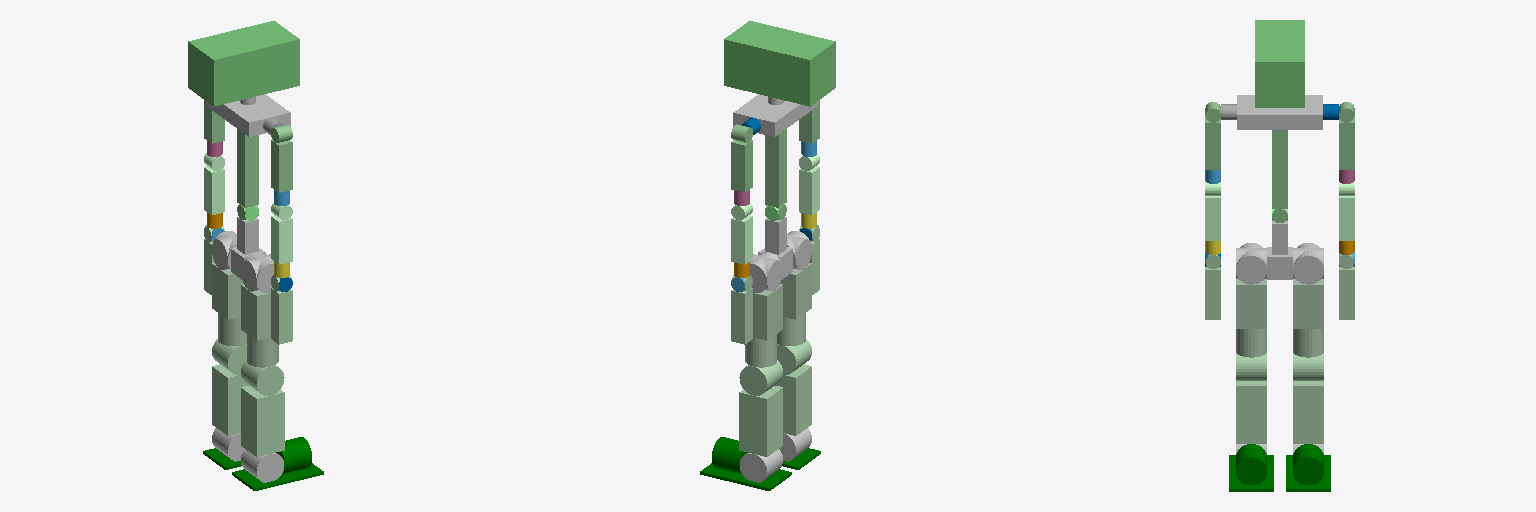
--- What the picture shows (computed from the rendered views, not written in the file) ---
3 views of the same robot in one strip: view 1: azimuth 30°, elevation 25°; view 2: azimuth 150°, elevation 25°; view 3: azimuth 270°, elevation 25° (orthographic).
Model SR1 with 30 links and 29 joints (29 revolute), rooted at WAIST, posed all joints at 0.
Links seen in each view (by area): view 1: CHEST, RLEG_KNEE, LLEG_KNEE, RLEG_HIP_Y, LLEG_HIP_Y, RLEG_ANKLE_R, WAIST_R, RARM_SHOULDER_R, RARM_WRIST_R, RARM_ELBOW, LARM_ELBOW, WAIST (+6 smaller); view 2: CHEST, LLEG_KNEE, RLEG_KNEE, LLEG_HIP_Y, RLEG_HIP_Y, LLEG_ANKLE_R, WAIST_R, LARM_SHOULDER_R, LARM_WRIST_R, LARM_ELBOW, RARM_ELBOW, WAIST (+6 smaller); view 3: CHEST, RLEG_KNEE, LLEG_KNEE, RLEG_HIP_Y, LLEG_HIP_Y, RLEG_ANKLE_R, LLEG_ANKLE_R, WAIST_R, WAIST, RARM_SHOULDER_R, LARM_SHOULDER_R, RARM_WRIST_R (+5 smaller).
Boxes of the visible links, left/top/right/bottom form: CHEST: left=188, top=21, right=299, bottom=136; RLEG_KNEE: left=241, top=360, right=284, bottom=456; LLEG_KNEE: left=212, top=339, right=248, bottom=435; RLEG_HIP_Y: left=241, top=284, right=278, bottom=367; LLEG_HIP_Y: left=212, top=263, right=246, bottom=345; RLEG_ANKLE_R: left=232, top=437, right=323, bottom=490; WAIST_R: left=237, top=129, right=258, bottom=219; RARM_SHOULDER_R: left=271, top=124, right=292, bottom=192; RARM_WRIST_R: left=271, top=275, right=292, bottom=344; RARM_ELBOW: left=271, top=203, right=292, bottom=264; LARM_ELBOW: left=204, top=153, right=224, bottom=214; WAIST: left=231, top=217, right=265, bottom=279; CHEST: left=724, top=21, right=835, bottom=136; LLEG_KNEE: left=739, top=360, right=782, bottom=456; RLEG_KNEE: left=775, top=339, right=811, bottom=435; LLEG_HIP_Y: left=745, top=284, right=782, bottom=367; RLEG_HIP_Y: left=777, top=263, right=811, bottom=345; LLEG_ANKLE_R: left=700, top=437, right=791, bottom=490; WAIST_R: left=765, top=129, right=786, bottom=219; LARM_SHOULDER_R: left=731, top=124, right=752, bottom=192; LARM_WRIST_R: left=731, top=275, right=752, bottom=344; LARM_ELBOW: left=731, top=203, right=752, bottom=264; RARM_ELBOW: left=799, top=153, right=819, bottom=214; WAIST: left=758, top=217, right=792, bottom=279; CHEST: left=1237, top=20, right=1322, bottom=129; RLEG_KNEE: left=1236, top=353, right=1266, bottom=443; LLEG_KNEE: left=1293, top=353, right=1323, bottom=443; RLEG_HIP_Y: left=1236, top=279, right=1266, bottom=357; LLEG_HIP_Y: left=1293, top=279, right=1323, bottom=357; RLEG_ANKLE_R: left=1229, top=444, right=1273, bottom=491; LLEG_ANKLE_R: left=1286, top=444, right=1330, bottom=491; WAIST_R: left=1272, top=130, right=1287, bottom=222; WAIST: left=1267, top=221, right=1292, bottom=279; RARM_SHOULDER_R: left=1205, top=102, right=1220, bottom=169; LARM_SHOULDER_R: left=1339, top=102, right=1354, bottom=169; RARM_WRIST_R: left=1205, top=255, right=1220, bottom=319.
Size in the robot's own frame: 0.35 by 0.47 by 1.47 metres.
Geometry: primitives only (box / cylinder / sphere), no mesh files.

robot.urdf — SR1:
<robot name="SR1">
  <!-- root link -->
  <link name="WAIST">
    <inertial>
      <mass value="27.0"/>
      <origin xyz="0.0 0.0 0.0375"/>
      <inertia ixx="1.0" ixy="0.0" ixz="0.0" iyy="1.0" iyz="0.0" izz="1.0"/>
    </inertial>

    <visual>
      <geometry>
        <box size="0.08 0.08 0.08"/>
      </geometry>
      <material name="WaistAppearance">
        <color rgba="0.8 0.8 0.8 1.0"/>
      </material>
    </visual>
    <visual>
      <origin xyz="0.0 0.0 0.0955"/>
      <geometry>
        <box size="0.05 0.05 0.111"/>
      </geometry>
      <material name="WaistAppearance"/>
    </visual>

    <collision>
      <geometry>
        <box size="0.08 0.08 0.08"/>
      </geometry>
    </collision>
    <collision>
      <origin xyz="0.0 0.0 0.0955"/>
      <geometry>
        <box size="0.05 0.05 0.111"/>
      </geometry>
    </collision>
  </link>

  <!-- right leg -->
  <joint name="RLEG_HIP_R" type="revolute">
    <origin xyz="0.0 -0.09 0.0"/>
    <axis xyz="1 0 0"/>
    <parent link="WAIST"/>
    <child link="RLEG_HIP_R"/>
    <limit lower="-0.785398163397" upper="0.785398163397" effort="500.0" velocity="10.0"/>
  </joint>

  <link name="RLEG_HIP_R">
    <inertial>
      <mass value="2.5"/>
      <origin xyz="0.0 -0.1 0.0"/>
      <inertia ixx="1.0" ixy="0.0" ixz="0.0" iyy="1.0" iyz="0.0" izz="1.0"/>
    </inertial>

    <visual>
      <origin rpy="1.57 0.0 1.57"/>
      <geometry>
        <cylinder radius="0.05" length="0.1"/>
      </geometry>
      <material name="Appearance3"/>
    </visual>

    <collision>
      <origin rpy="1.57 0.0 1.57"/>
      <geometry>
        <cylinder radius="0.05" length="0.1"/>
      </geometry>
    </collision>
  </link>

  <joint name="RLEG_HIP_P" type="revolute">
    <axis xyz="0 1 0"/>
    <parent link="RLEG_HIP_R"/>
    <child link="RLEG_HIP_P"/>
    <limit lower="-1.57" upper="1.57" effort="500.0" velocity="10.0"/>
  </joint>

  <link name="RLEG_HIP_P">
    <inertial>
      <mass value="2.0"/>
      <origin xyz="0.0 0.0 -0.15"/>
      <inertia ixx="1.0" ixy="0.0" ixz="0.0" iyy="1.0" iyz="0.0" izz="1.0"/>
    </inertial>

    <visual>
      <origin rpy="1.57 0.0 0.0"/>
      <geometry>
        <cylinder radius="0.05" length="0.1"/>
      </geometry>
      <material name="Appearance3"/>
    </visual>

    <collision>
      <origin rpy="1.57 0.0 0.0"/>
      <geometry>
        <cylinder radius="0.05" length="0.1"/>
      </geometry>
    </collision>
  </link>

  <joint name="RLEG_HIP_Y" type="revolute">
    <origin xyz="0.0 0.0 -0.3535"/>
    <axis xyz="0 0 1"/>
    <parent link="RLEG_HIP_P"/>
    <child link="RLEG_HIP_Y"/>
    <limit lower="-1.0471975512" upper="1.0471975512" effort="500.0" velocity="10.0"/>
  </joint>

  <link name="RLEG_HIP_Y">
    <inertial>
      <mass value="5.1"/>
      <origin xyz="0.0 -0.04 0.0"/>
      <inertia ixx="1.0" ixy="0.0" ixz="0.0" iyy="1.0" iyz="0.0" izz="1.0"/>
    </inertial>

    <visual>
      <origin xyz="0.0 0.0 0.1"/>
      <geometry>
        <cylinder radius="0.05" length="0.1"/>
      </geometry>
      <material name="Appearance5"/>
    </visual>
    <visual>
      <origin xyz="0.0 0.0 0.22675"/>
      <geometry>
        <box size="0.1 0.1 0.1535"/>
      </geometry>
      <material name="Appearance5"/>
    </visual>

    <collision>
      <origin xyz="0.0 0.0 0.1"/>
      <geometry>
        <cylinder radius="0.05" length="0.1"/>
      </geometry>
    </collision>
    <collision>
      <origin xyz="0.0 0.0 0.22675"/>
      <geometry>
        <box size="0.1 0.1 0.1535"/>
      </geometry>
    </collision>
  </link>

  <joint name="RLEG_KNEE" type="revolute">
    <axis xyz="0 1 0"/>
    <parent link="RLEG_HIP_Y"/>
    <child link="RLEG_KNEE"/>
    <limit lower="0.0" upper="2.61799387799" effort="500.0" velocity="10.0"/>
  </joint>

  <link name="RLEG_KNEE">
    <inertial>
      <mass value="7.0"/>
      <origin xyz="0.0 0.0 -0.3"/>
      <inertia ixx="1.0" ixy="0.0" ixz="0.0" iyy="1.0" iyz="0.0" izz="1.0"/>
    </inertial>

    <visual>
      <origin rpy="1.57 0.0 0.0"/>
      <geometry>
        <cylinder radius="0.05" length="0.1"/>
      </geometry>
      <material name="Appearance7"/>
    </visual>
    <visual>
      <origin xyz="0.0 0.0 -0.15"/>
      <geometry>
        <box size="0.1 0.1 0.2"/>
      </geometry>
      <material name="Appearance7"/>
    </visual>

    <collision>
      <origin rpy="1.57 0.0 0.0"/>
      <geometry>
        <cylinder radius="0.05" length="0.1"/>
      </geometry>
    </collision>
    <collision>
      <origin xyz="0.0 0.0 -0.15"/>
      <geometry>
        <box size="0.1 0.1 0.2"/>
      </geometry>
    </collision>
  </link>

  <joint name="RLEG_ANKLE_P" type="revolute">
    <origin xyz="0.0 0.0 -0.3"/>
    <axis xyz="0 1 0"/>
    <parent link="RLEG_KNEE"/>
    <child link="RLEG_ANKLE_P"/>
    <limit lower="-1.3962634016" upper="0.785398163397" effort="500.0" velocity="10.0"/>
  </joint>

  <link name="RLEG_ANKLE_P">
    <inertial>
      <mass value="2.5"/>
      <origin xyz="-0.15 0.0 0.0"/>
      <inertia ixx="1.0" ixy="0.0" ixz="0.0" iyy="1.0" iyz="0.0" izz="1.0"/>
    </inertial>

    <visual>
      <origin rpy="1.57 0.0 0.0"/>
      <geometry>
        <cylinder radius="0.05" length="0.1"/>
      </geometry>
      <material name="Appearance3"/>
    </visual>

    <collision>
      <origin rpy="1.57 0.0 0.0"/>
      <geometry>
        <cylinder radius="0.05" length="0.1"/>
      </geometry>
    </collision>
  </link>

  <joint name="RLEG_ANKLE_R" type="revolute">
    <axis xyz="1 0 0"/>
    <parent link="RLEG_ANKLE_P"/>
    <child link="RLEG_ANKLE_R"/>
    <limit lower="-0.785398163397" upper="0.785398163397" effort="500.0" velocity="10.0"/>
  </joint>

  <link name="RLEG_ANKLE_R">
    <inertial>
      <mass value="1.9"/>
      <origin xyz="0.28 0.0 -0.2"/>
      <inertia ixx="1.0" ixy="0.0" ixz="0.0" iyy="1.0" iyz="0.0" izz="1.0"/>
    </inertial>

    <visual>
      <origin xyz="0.1 0.0 0.0" rpy="1.57 0.0 1.57"/>
      <geometry>
        <cylinder radius="0.05" length="0.1"/>
      </geometry>
      <material name="Appearance6"/>
    </visual>
    <visual>
      <origin xyz="0.055 0.0 -0.05"/>
      <geometry>
        <box size="0.25 0.14 0.01"/>
      </geometry>
      <material name="Appearance6"/>
    </visual>

    <collision>
      <origin xyz="0.1 0.0 0.0" rpy="1.57 0.0 1.57"/>
      <geometry>
        <cylinder radius="0.05" length="0.1"/>
      </geometry>
    </collision>
    <collision>
      <origin xyz="0.055 0.0 -0.05"/>
      <geometry>
        <box size="0.25 0.14 0.01"/>
      </geometry>
    </collision>
  </link>

  <!-- right arm -->
  <joint name="RARM_SHOULDER_P" type="revolute">
    <origin xyz="0.0 -0.21 0.0"/>
    <axis xyz="0 1 0"/>
    <parent link="CHEST"/>
    <child link="RARM_SHOULDER_P"/>
    <limit lower="-3.14" upper="3.14" effort="500.0" velocity="10.0"/>
  </joint>

  <link name="RARM_SHOULDER_P">
    <inertial>
      <mass value="3.0"/>
      <origin xyz="0.1 0.0 0.0"/>
      <inertia ixx="1.0" ixy="0.0" ixz="0.0" iyy="1.0" iyz="0.0" izz="1.0"/>
    </inertial>

    <visual>
      <origin xyz="0.0 0.05 0.0" rpy="1.57 0.0 0.0"/>
      <geometry>
        <cylinder radius="0.025" length="0.05"/>
      </geometry>
    </visual>

    <collision>
      <origin xyz="0.0 0.05 0.0" rpy="1.57 0.0 0.0"/>
      <geometry>
        <cylinder radius="0.025" length="0.05"/>
      </geometry>
    </collision>
  </link>

  <joint name="RARM_SHOULDER_R" type="revolute">
    <axis xyz="1 0 0"/>
    <parent link="RARM_SHOULDER_P"/>
    <child link="RARM_SHOULDER_R"/>
    <limit lower="-3.14" upper="0.785398163397" effort="500.0" velocity="10.0"/>
  </joint>

  <link name="RARM_SHOULDER_R">
    <inertial>
      <mass value="0.6"/>
      <origin xyz="0.0 0.0 -0.1"/>
      <inertia ixx="1.0" ixy="0.0" ixz="0.0" iyy="1.0" iyz="0.0" izz="1.0"/>
    </inertial>

    <visual>
      <origin rpy="0.0 1.57 0.0"/>
      <geometry>
        <cylinder radius="0.025" length="0.05"/>
      </geometry>
      <material name="Appearance2"/>
    </visual>
    <visual>
      <origin xyz="0.0 0.0 -0.1065"/>
      <geometry>
        <box size="0.05 0.05 0.163"/>
      </geometry>
      <material name="Appearance2"/>
    </visual>

    <collision>
      <origin rpy="0.0 1.57 0.0"/>
      <geometry>
        <cylinder radius="0.025" length="0.05"/>
      </geometry>
    </collision>
    <collision>
      <origin xyz="0.0 0.0 -0.1065"/>
      <geometry>
        <box size="0.05 0.05 0.163"/>
      </geometry>
    </collision>
  </link>

  <joint name="RARM_SHOULDER_Y" type="revolute">
    <origin xyz="0.0 0.0 -0.263"/>
    <axis xyz="0 0 1"/>
    <parent link="RARM_SHOULDER_R"/>
    <child link="RARM_SHOULDER_Y"/>
    <limit lower="-1.57" upper="1.57" effort="500.0" velocity="10.0"/>
  </joint>

  <link name="RARM_SHOULDER_Y">
    <inertial>
      <mass value="1.0"/>
      <origin xyz="0.0 0.0 0.0"/>
      <inertia ixx="1.0" ixy="0.0" ixz="0.0" iyy="1.0" iyz="0.0" izz="1.0"/>
    </inertial>

    <visual>
      <origin xyz="0.0 0.0 0.05"/>
      <geometry>
        <cylinder radius="0.025" length="0.05"/>
      </geometry>
    </visual>

    <collision>
      <origin xyz="0.0 0.0 0.05"/>
      <geometry>
        <cylinder radius="0.025" length="0.05"/>
      </geometry>
    </collision>
  </link>

  <joint name="RARM_ELBOW" type="revolute">
    <axis xyz="0 1 0"/>
    <parent link="RARM_SHOULDER_Y"/>
    <child link="RARM_ELBOW"/>
    <limit lower="-2.61799387799" upper="0.0" effort="500.0" velocity="0.0"/>
  </joint>

  <link name="RARM_ELBOW">
    <inertial>
      <mass value="0.6"/>
      <origin xyz="0.0 0.0 -0.3"/>
      <inertia ixx="1.0" ixy="0.0" ixz="0.0" iyy="1.0" iyz="0.0" izz="1.0"/>
    </inertial>

    <visual>
      <origin rpy="1.57 0.0 0.0"/>
      <geometry>
        <cylinder radius="0.025" length="0.05"/>
      </geometry>
      <material name="Appearance4"/>
    </visual>
    <visual>
      <origin xyz="0.0 0.0 -0.0985"/>
      <geometry>
        <box size="0.05 0.05 0.147"/>
      </geometry>
      <material name="Appearance4"/>
    </visual>

    <collision>
      <origin rpy="1.57 0.0 0.0"/>
      <geometry>
        <cylinder radius="0.025" length="0.05"/>
      </geometry>
    </collision>
    <collision>
      <origin xyz="0.0 0.0 -0.0985"/>
      <geometry>
        <box size="0.05 0.05 0.147"/>
      </geometry>
    </collision>
  </link>

  <joint name="RARM_WRIST_Y" type="revolute">
    <origin xyz="0.0 0.0 -0.247"/>
    <axis xyz="0 0 1"/>
    <parent link="RARM_ELBOW"/>
    <child link="RARM_WRIST_Y"/>
    <limit lower="-1.57" upper="1.57" effort="500.0" velocity="10.0"/>
  </joint>

  <link name="RARM_WRIST_Y">
    <inertial>
      <mass value="0.4"/>
      <origin xyz="0.0 0.0 0.1"/>
      <inertia ixx="1.0" ixy="0.0" ixz="0.0" iyy="1.0" iyz="0.0" izz="1.0"/>
    </inertial>

    <visual>
      <origin xyz="0.0 0.0 0.05"/>
      <geometry>
        <cylinder radius="0.025" length="0.05"/>
      </geometry>
    </visual>

    <collision>
      <origin xyz="0.0 0.0 0.05"/>
      <geometry>
        <cylinder radius="0.025" length="0.05"/>
      </geometry>
    </collision>
  </link>

  <joint name="RARM_WRIST_P" type="revolute">
    <axis xyz="0 1 0"/>
    <parent link="RARM_WRIST_Y"/>
    <child link="RARM_WRIST_P"/>
    <limit lower="-1.57" upper="1.57" effort="500.0" velocity="10.0"/>
  </joint>

  <link name="RARM_WRIST_P">
    <inertial>
      <mass value="0.4"/>
      <origin xyz="-0.1 0.0 0.0"/>
      <inertia ixx="1.0" ixy="0.0" ixz="0.0" iyy="1.0" iyz="0.0" izz="1.0"/>
    </inertial>

    <visual>
      <origin rpy="1.57 0.0 0.0"/>
      <geometry>
        <cylinder radius="0.025" length="0.05"/>
      </geometry>
    </visual>

    <collision>
      <origin rpy="1.57 0.0 0.0"/>
      <geometry>
        <cylinder radius="0.025" length="0.05"/>
      </geometry>
    </collision>
  </link>

  <joint name="RARM_WRIST_R" type="revolute">
    <axis xyz="1 0 0"/>
    <parent link="RARM_WRIST_P"/>
    <child link="RARM_WRIST_R"/>
    <limit lower="-1.57" upper="1.57" effort="500.0" velocity="10.0"/>
  </joint>

  <link name="RARM_WRIST_R">
    <inertial>
      <mass value="0.4"/>
      <origin xyz="0.0 0.0 -0.1"/>
      <inertia ixx="1.0" ixy="0.0" ixz="0.0" iyy="1.0" iyz="0.0" izz="1.0"/>
    </inertial>

    <visual>
      <origin rpy="1.57 0.0 1.57"/>
      <geometry>
        <cylinder radius="0.025" length="0.05"/>
      </geometry>
      <material name="Appearance7"/>
    </visual>
    <visual>
      <origin xyz="0.0 0.0 -0.1125"/>
      <geometry>
        <box size="0.05 0.05 0.175"/>
      </geometry>
      <material name="Appearance7"/>
    </visual>

    <collision>
      <origin rpy="1.57 0.0 1.57"/>
      <geometry>
        <cylinder radius="0.025" length="0.05"/>
      </geometry>
    </collision>
    <collision>
      <origin xyz="0.0 0.0 -0.1125"/>
      <geometry>
        <box size="0.05 0.05 0.175"/>
      </geometry>
    </collision>
  </link>

  <!-- left leg -->
  <joint name="LLEG_HIP_R" type="revolute">
    <origin xyz="0.0 0.09 0.0"/>
    <axis xyz="1 0 0"/>
    <parent link="WAIST"/>
    <child link="LLEG_HIP_R"/>
    <limit lower="-0.785398163397" upper="0.785398163397" effort="500.0" velocity="10.0"/>
  </joint>

  <link name="LLEG_HIP_R">
    <inertial>
      <mass value="2.5"/>
      <origin xyz="0.0 0.1 0.0"/>
      <inertia ixx="1.0" ixy="0.0" ixz="0.0" iyy="1.0" iyz="0.0" izz="1.0"/>
    </inertial>

    <visual>
      <origin rpy="1.57 0.0 1.57"/>
      <geometry>
        <cylinder radius="0.05" length="0.1"/>
      </geometry>
      <material name="Appearance3"/>
    </visual>

    <collision>
      <origin rpy="1.57 0.0 1.57"/>
      <geometry>
        <cylinder radius="0.05" length="0.1"/>
      </geometry>
    </collision>
  </link>

  <joint name="LLEG_HIP_P" type="revolute">
    <axis xyz="0 1 0"/>
    <parent link="LLEG_HIP_R"/>
    <child link="LLEG_HIP_P"/>
    <limit lower="-1.57" upper="1.57" effort="500.0" velocity="10.0"/>
  </joint>

  <link name="LLEG_HIP_P">
    <inertial>
      <mass value="2.0"/>
      <origin xyz="0.0 0.0 -0.15"/>
      <inertia ixx="1.0" ixy="0.0" ixz="0.0" iyy="1.0" iyz="0.0" izz="1.0"/>
    </inertial>

    <visual>
      <origin rpy="1.57 0.0 0.0"/>
      <geometry>
        <cylinder radius="0.05" length="0.1"/>
      </geometry>
      <material name="Appearance3"/>
    </visual>

    <collision>
      <origin rpy="1.57 0.0 0.0"/>
      <geometry>
        <cylinder radius="0.05" length="0.1"/>
      </geometry>
    </collision>
  </link>

  <joint name="LLEG_HIP_Y" type="revolute">
    <origin xyz="0.0 0.0 -0.3535"/>
    <axis xyz="0 0 1"/>
    <parent link="LLEG_HIP_P"/>
    <child link="LLEG_HIP_Y"/>
    <limit lower="-1.0471975512" upper="1.0471975512" effort="500.0" velocity="10.0"/>
  </joint>

  <link name="LLEG_HIP_Y">
    <inertial>
      <mass value="5.1"/>
      <origin xyz="0.0 0.04 0.0"/>
      <inertia ixx="1.0" ixy="0.0" ixz="0.0" iyy="1.0" iyz="0.0" izz="1.0"/>
    </inertial>

    <visual>
      <origin xyz="0.0 0.0 0.1"/>
      <geometry>
        <cylinder radius="0.05" length="0.1"/>
      </geometry>
      <material name="Appearance5">
        <color rgba="0.7 0.8 0.7 1.0"/>
      </material>
    </visual>
    <visual>
      <origin xyz="0.0 0.0 0.22675"/>
      <geometry>
        <box size="0.1 0.1 0.1535"/>
      </geometry>
      <material name="Appearance5"/>
    </visual>

    <collision>
      <origin xyz="0.0 0.0 0.1"/>
      <geometry>
        <cylinder radius="0.05" length="0.1"/>
      </geometry>
    </collision>
    <collision>
      <origin xyz="0.0 0.0 0.22675"/>
      <geometry>
        <box size="0.1 0.1 0.1535"/>
      </geometry>
    </collision>
  </link>

  <joint name="LLEG_KNEE" type="revolute">
    <axis xyz="0 1 0"/>
    <parent link="LLEG_HIP_Y"/>
    <child link="LLEG_KNEE"/>
    <limit lower="0.0" upper="2.61799387799" effort="500.0" velocity="10.0"/>
  </joint>

  <link name="LLEG_KNEE">
    <inertial>
      <mass value="7.0"/>
      <origin xyz="0.0 0.0 -0.3"/>
      <inertia ixx="1.0" ixy="0.0" ixz="0.0" iyy="1.0" iyz="0.0" izz="1.0"/>
    </inertial>

    <visual>
      <origin rpy="1.57 0.0 0.0"/>
      <geometry>
        <cylinder radius="0.05" length="0.1"/>
      </geometry>
      <material name="Appearance7"/>
    </visual>
    <visual>
      <origin xyz="0.0 0.0 -0.15"/>
      <geometry>
        <box size="0.1 0.1 0.2"/>
      </geometry>
      <material name="Appearance7"/>
    </visual>

    <collision>
      <origin rpy="1.57 0.0 0.0"/>
      <geometry>
        <cylinder radius="0.05" length="0.1"/>
      </geometry>
    </collision>
    <collision>
      <origin xyz="0.0 0.0 -0.15"/>
      <geometry>
        <box size="0.1 0.1 0.2"/>
      </geometry>
    </collision>
  </link>

  <joint name="LLEG_ANKLE_P" type="revolute">
    <origin xyz="0.0 0.0 -0.3"/>
    <axis xyz="0 1 0"/>
    <parent link="LLEG_KNEE"/>
    <child link="LLEG_ANKLE_P"/>
    <limit lower="-1.3962634016" upper="0.785398163397" effort="500.0" velocity="10.0"/>
  </joint>

  <link name="LLEG_ANKLE_P">
    <inertial>
      <mass value="2.5"/>
      <origin xyz="-0.15 0.0 0.0"/>
      <inertia ixx="1.0" ixy="0.0" ixz="0.0" iyy="1.0" iyz="0.0" izz="1.0"/>
    </inertial>

    <visual>
      <origin rpy="1.57 0.0 0.0"/>
      <geometry>
        <cylinder radius="0.05" length="0.1"/>
      </geometry>
      <material name="Appearance3"/>
    </visual>

    <collision>
      <origin rpy="1.57 0.0 0.0"/>
      <geometry>
        <cylinder radius="0.05" length="0.1"/>
      </geometry>
    </collision>
  </link>

  <joint name="LLEG_ANKLE_R" type="revolute">
    <axis xyz="1 0 0"/>
    <parent link="LLEG_ANKLE_P"/>
    <child link="LLEG_ANKLE_R"/>
    <limit lower="-0.785398163397" upper="0.785398163397" effort="500.0" velocity="10.0"/>
  </joint>

  <link name="LLEG_ANKLE_R">
    <inertial>
      <mass value="1.9"/>
      <origin xyz="0.28 0.0 -0.2"/>
      <inertia ixx="1.0" ixy="0.0" ixz="0.0" iyy="1.0" iyz="0.0" izz="1.0"/>
    </inertial>

    <visual>
      <origin xyz="0.1 0.0 0.0" rpy="1.57 0.0 1.57"/>
      <geometry>
        <cylinder radius="0.05" length="0.1"/>
      </geometry>
      <material name="Appearance6">
        <color rgba="0.0 0.5 0.0 1.0"/>
      </material>
    </visual>
    <visual>
      <origin xyz="0.055 0.0 -0.05"/>
      <geometry>
        <box size="0.25 0.14 0.01"/>
      </geometry>
      <material name="Appearance6"/>
    </visual>

    <collision>
      <origin xyz="0.1 0.0 0.0" rpy="1.57 0.0 1.57"/>
      <geometry>
        <cylinder radius="0.05" length="0.1"/>
      </geometry>
    </collision>
    <collision>
      <origin xyz="0.055 0.0 -0.05"/>
      <geometry>
        <box size="0.25 0.14 0.01"/>
      </geometry>
    </collision>
  </link>

  <!-- left arm -->
  <joint name="LARM_SHOULDER_P" type="revolute">
    <origin xyz="0.0 0.21 0.0"/>
    <axis xyz="0 1 0"/>
    <parent link="CHEST"/>
    <child link="LARM_SHOULDER_P"/>
    <limit lower="-3.14" upper="3.14" effort="500.0" velocity="10.0"/>
  </joint>

  <link name="LARM_SHOULDER_P">
    <inertial>
      <mass value="3.0"/>
      <origin xyz="0.1 0.0 0.0"/>
      <inertia ixx="1.0" ixy="0.0" ixz="0.0" iyy="1.0" iyz="0.0" izz="1.0"/>
    </inertial>

    <visual>
      <origin xyz="0.0 -0.05 0.0" rpy="1.57 0.0 0.0"/>
      <geometry>
        <cylinder radius="0.025" length="0.05"/>
      </geometry>
    </visual>

    <collision>
      <origin xyz="0.0 -0.05 0.0" rpy="1.57 0.0 0.0"/>
      <geometry>
        <cylinder radius="0.025" length="0.05"/>
      </geometry>
    </collision>
  </link>

  <joint name="LARM_SHOULDER_R" type="revolute">
    <axis xyz="1 0 0"/>
    <parent link="LARM_SHOULDER_P"/>
    <child link="LARM_SHOULDER_R"/>
    <limit lower="-0.785398163397" upper="3.14159265359" effort="500.0" velocity="10.0"/>
  </joint>

  <link name="LARM_SHOULDER_R">
    <inertial>
      <mass value="0.6"/>
      <origin xyz="0.0 0.0 -0.1"/>
      <inertia ixx="1.0" ixy="0.0" ixz="0.0" iyy="1.0" iyz="0.0" izz="1.0"/>
    </inertial>

    <visual>
      <origin rpy="0.0 1.57 0.0"/>
      <geometry>
        <cylinder radius="0.025" length="0.05"/>
      </geometry>
      <material name="Appearance2"/>
    </visual>
    <visual>
      <origin xyz="0.0 0.0 -0.1065"/>
      <geometry>
        <box size="0.05 0.05 0.163"/>
      </geometry>
      <material name="Appearance2"/>
    </visual>

    <collision>
      <origin rpy="0.0 1.57 0.0"/>
      <geometry>
        <cylinder radius="0.025" length="0.05"/>
      </geometry>
    </collision>
    <collision>
      <origin xyz="0.0 0.0 -0.1065"/>
      <geometry>
        <box size="0.05 0.05 0.163"/>
      </geometry>
    </collision>
  </link>

  <joint name="LARM_SHOULDER_Y" type="revolute">
    <origin xyz="0.0 0.0 -0.263"/>
    <axis xyz="0 0 1"/>
    <parent link="LARM_SHOULDER_R"/>
    <child link="LARM_SHOULDER_Y"/>
    <limit lower="-1.57" upper="1.57" effort="500.0" velocity="10.0"/>
  </joint>

  <link name="LARM_SHOULDER_Y">
    <inertial>
      <mass value="1.0"/>
      <origin xyz="0.0 0.0 0.0"/>
      <inertia ixx="1.0" ixy="0.0" ixz="0.0" iyy="1.0" iyz="0.0" izz="1.0"/>
    </inertial>

    <visual>
      <origin xyz="0.0 0.0 0.05"/>
      <geometry>
        <cylinder radius="0.025" length="0.05"/>
      </geometry>
    </visual>

    <collision>
      <origin xyz="0.0 0.0 0.05"/>
      <geometry>
        <cylinder radius="0.025" length="0.05"/>
      </geometry>
    </collision>
  </link>

  <joint name="LARM_ELBOW" type="revolute">
    <axis xyz="0 1 0"/>
    <parent link="LARM_SHOULDER_Y"/>
    <child link="LARM_ELBOW"/>
    <limit lower="-2.61799387799" upper="0.0" effort="500.0" velocity="10.0"/>
  </joint>

  <link name="LARM_ELBOW">
    <inertial>
      <mass value="0.6"/>
      <origin xyz="0.0 0.0 -0.3"/>
      <inertia ixx="1.0" ixy="0.0" ixz="0.0" iyy="1.0" iyz="0.0" izz="1.0"/>
    </inertial>

    <visual>
      <origin rpy="1.57 0.0 0.0"/>
      <geometry>
        <cylinder radius="0.025" length="0.05"/>
      </geometry>
      <material name="Appearance4">
        <color rgba="0.8 1.0 0.8 1.0"/>
      </material>
    </visual>
    <visual>
      <origin xyz="0.0 0.0 -0.0985"/>
      <geometry>
        <box size="0.05 0.05 0.147"/>
      </geometry>
      <material name="Appearance4"/>
    </visual>

    <collision>
      <origin rpy="1.57 0.0 0.0"/>
      <geometry>
        <cylinder radius="0.025" length="0.05"/>
      </geometry>
    </collision>
    <collision>
      <origin xyz="0.0 0.0 -0.0985"/>
      <geometry>
        <box size="0.05 0.05 0.147"/>
      </geometry>
    </collision>
  </link>

  <joint name="LARM_WRIST_Y" type="revolute">
    <origin xyz="0.0 0.0 -0.247"/>
    <axis xyz="0 0 1"/>
    <parent link="LARM_ELBOW"/>
    <child link="LARM_WRIST_Y"/>
    <limit lower="-1.57" upper="1.57" effort="500.0" velocity="10.0"/>
  </joint>

  <link name="LARM_WRIST_Y">
    <inertial>
      <mass value="0.4"/>
      <origin xyz="0.0 0.0 0.1"/>
      <inertia ixx="1.0" ixy="0.0" ixz="0.0" iyy="1.0" iyz="0.0" izz="1.0"/>
    </inertial>

    <visual>
      <origin xyz="0.0 0.0 0.05"/>
      <geometry>
        <cylinder radius="0.025" length="0.05"/>
      </geometry>
    </visual>

    <collision>
      <origin xyz="0.0 0.0 0.05"/>
      <geometry>
        <cylinder radius="0.025" length="0.05"/>
      </geometry>
    </collision>
  </link>

  <joint name="LARM_WRIST_P" type="revolute">
    <axis xyz="0 1 0"/>
    <parent link="LARM_WRIST_Y"/>
    <child link="LARM_WRIST_P"/>
    <limit lower="-1.57" upper="1.57" effort="500.0" velocity="10.0"/>
  </joint>

  <link name="LARM_WRIST_P">
    <inertial>
      <mass value="0.4"/>
      <origin xyz="-0.1 0.0 0.0"/>
      <inertia ixx="1.0" ixy="0.0" ixz="0.0" iyy="1.0" iyz="0.0" izz="1.0"/>
    </inertial>

    <visual>
      <origin rpy="1.57 0.0 0.0"/>
      <geometry>
        <cylinder radius="0.025" length="0.05"/>
      </geometry>
    </visual>

    <collision>
      <origin rpy="1.57 0.0 0.0"/>
      <geometry>
        <cylinder radius="0.025" length="0.05"/>
      </geometry>
    </collision>
  </link>

  <joint name="LARM_WRIST_R" type="revolute">
    <axis xyz="1 0 0"/>
    <parent link="LARM_WRIST_P"/>
    <child link="LARM_WRIST_R"/>
    <limit lower="-1.57" upper="1.57" effort="500.0" velocity="10.0"/>
  </joint>

  <link name="LARM_WRIST_R">
    <inertial>
      <mass value="0.4"/>
      <origin xyz="0.0 0.0 -0.1"/>
      <inertia ixx="1.0" ixy="0.0" ixz="0.0" iyy="1.0" iyz="0.0" izz="1.0"/>
    </inertial>

    <visual>
      <origin rpy="1.57 0.0 1.57"/>
      <geometry>
        <cylinder radius="0.025" length="0.05"/>
      </geometry>
      <material name="Appearance7">
        <color rgba="0.7 0.85 0.7 1.0"/>
      </material>
    </visual>
    <visual>
      <origin xyz="0.0 0.0 -0.1125"/>
      <geometry>
        <box size="0.05 0.05 0.175"/>
      </geometry>
      <material name="Appearance7"/>
    </visual>

    <collision>
      <origin rpy="1.57 0.0 1.57"/>
      <geometry>
        <cylinder radius="0.025" length="0.05"/>
      </geometry>
    </collision>
    <collision>
      <origin xyz="0.0 0.0 -0.1125"/>
      <geometry>
        <box size="0.05 0.05 0.175"/>
      </geometry>
    </collision>
  </link>

  <!-- body -->
  <joint name="WAIST_P" type="revolute">
    <origin xyz="0.0 0.0 0.176"/>
    <axis xyz="0 1 0"/>
    <parent link="WAIST"/>
    <child link="WAIST_P"/>
    <limit lower="-1.57" upper="1.57" effort="500.0" velocity="10.0"/>
  </joint>

  <link name="WAIST_P">
    <inertial>
      <mass value="6.0"/>
      <origin xyz="0.0 0.0 -0.1"/>
      <inertia ixx="1.0" ixy="0.0" ixz="0.0" iyy="1.0" iyz="0.0" izz="1.0"/>
    </inertial>

    <visual>
      <!-- NOTE: the cylinder direction in URDF is Z -->
      <origin rpy="1.57 0.0 0.0"/>
      <geometry>
        <cylinder radius="0.025" length="0.05"/>
      </geometry>
      <material name="Appearance1">
        <color rgba="0.6 1.0 0.6 1.0"/>
      </material>
    </visual>

    <collision>
      <origin rpy="1.57 0.0 0.0"/>
      <geometry>
        <cylinder radius="0.025" length="0.05"/>
      </geometry>
    </collision>
  </link>

  <joint name="WAIST_R" type="revolute">
    <axis xyz="1 0 0"/>
    <parent link="WAIST_P"/>
    <child link="WAIST_R"/>
    <limit lower="-1.0471975512" upper="1.0471975512" effort="500.0" velocity="10.0"/>
  </joint>

  <link name="WAIST_R">
    <inertial>
      <mass value="30.0"/>
      <origin xyz="0.11 0.0 0.25"/>
      <inertia ixx="1.0" ixy="0.0" ixz="0.0" iyy="1.0" iyz="0.0" izz="1.0"/>
    </inertial>

    <visual>
      <origin rpy="0.0 1.57 0.0"/>
      <geometry>
        <cylinder radius="0.025" length="0.05"/>
      </geometry>
      <material name="Appearance2">
        <color rgba="0.6 0.8 0.6 1.0"/>
      </material>
    </visual>
    <visual>
      <origin xyz="0.0 0.0 0.1625"/>
      <geometry>
        <box size="0.05 0.05 0.275"/>
      </geometry>
      <material name="Appearance2"/>
    </visual>

    <collision>
      <origin rpy="0.0 1.57 0.0"/>
      <geometry>
        <cylinder radius="0.025" length="0.05"/>
      </geometry>
    </collision>
    <collision>
      <origin xyz="0.0 0.0 0.1625"/>
      <geometry>
        <box size="0.05 0.05 0.275"/>
      </geometry>
    </collision>
  </link>

  <joint name="CHEST" type="revolute">
    <origin xyz="0.0 0.0 0.35"/>
    <axis xyz="0 0 1"/>
    <parent link="WAIST_R"/>
    <child link="CHEST"/>
    <limit lower="-1.57" upper="1.57" effort="500.0" velocity="10.0"/>
  </joint>

  <link name="CHEST">
    <inertial>
      <mass value="13.0"/>
      <inertia ixx="1.0" ixy="0.0" ixz="0.0" iyy="1.0" iyz="0.0" izz="1.0"/>
    </inertial>

    <visual>
      <geometry>
        <cylinder radius="0.025" length="0.1"/>
      </geometry>
      <material name="Appearance3">
        <color rgba="0.8 0.8 0.8 1.0"/>
      </material>
    </visual>
    <visual>
      <geometry>
        <box size="0.15 0.27 0.05"/>
      </geometry>
      <material name="Appearance3"/>
    </visual>
    <visual>
      <origin xyz="0.0 0.0 0.065"/>
      <geometry>
        <box size="0.05 0.05 0.03"/>
      </geometry>
      <material name="Appearance3"/>
    </visual>
    <visual>
      <origin xyz="-0.015 0.0 0.16"/>
      <geometry>
        <box size="0.31 0.16 0.16"/>
      </geometry>
      <material>
        <color rgba="0.5 0.8 0.5 1.0"/>
      </material>
    </visual>

    <collision>
      <geometry>
        <cylinder radius="0.025" length="0.1"/>
      </geometry>
    </collision>
    <collision>
      <geometry>
        <box size="0.15 0.27 0.05"/>
      </geometry>
    </collision>
    <collision>
      <origin xyz="0.0 0.0 0.065"/>
      <geometry>
        <box size="0.05 0.05 0.03"/>
      </geometry>
    </collision>
    <collision>
      <origin xyz="-0.015 0.0 0.16"/>
      <geometry>
        <box size="0.31 0.16 0.16"/>
      </geometry>
    </collision>

    <!-- cameras has not been described yet -->
  </link>
</robot>
